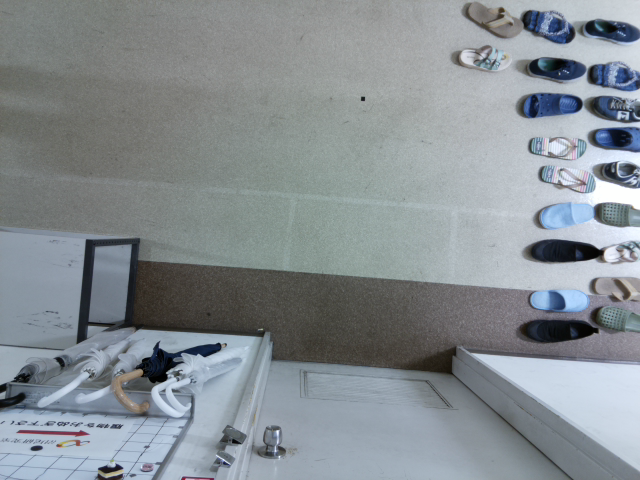Copy of Copy of Copy of Copy of Copy of Copy of Copy of Copy of Copy of Copy of: (518, 316, 600, 345), (581, 13, 640, 47), (588, 58, 640, 93), (587, 94, 640, 123), (595, 302, 640, 335), (589, 273, 640, 300), (593, 200, 640, 228), (593, 124, 640, 152), (599, 158, 640, 188), (600, 238, 640, 266)
Copy of Copy of Copy of Copy of Copy of Copy of Copy of Copy of Copy of shoe: (524, 286, 591, 314)
Copy of Copy of Copy of Copy of Copy of Copy of Copy of Copy of shoe: (524, 232, 602, 268)
Copy of Copy of Copy of Copy of Copy of Copy of Copy of shoe: (532, 196, 599, 232)
Copy of Copy of Copy of Copy of Copy of Copy of shoe: (532, 163, 599, 198)
Copy of Copy of Copy of Copy of Copy of shoe: (525, 131, 589, 164)
Copy of Copy of Copy of Copy of shoe: (520, 4, 578, 47)
Copy of Copy of Copy of shoe: (520, 51, 590, 86)
Copy of Copy of shoe: (516, 88, 586, 122)
Copy of shoe: (457, 43, 516, 76)
shoe: (464, 1, 525, 44)
